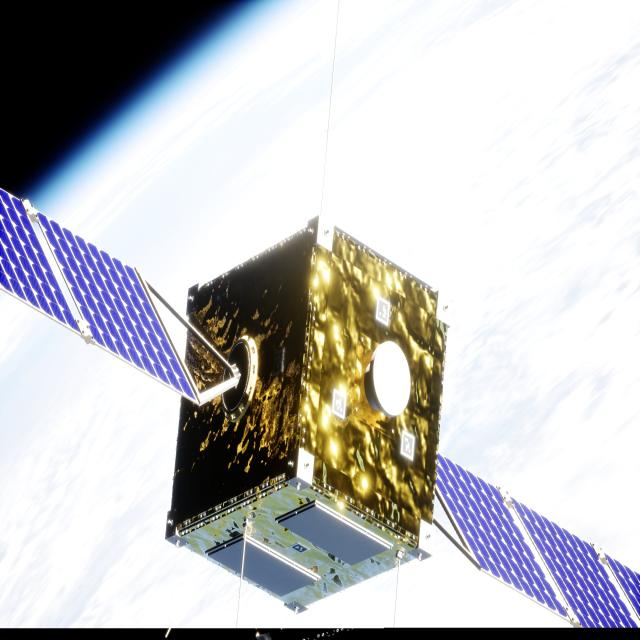medium_debris: (0, 188, 640, 629)
